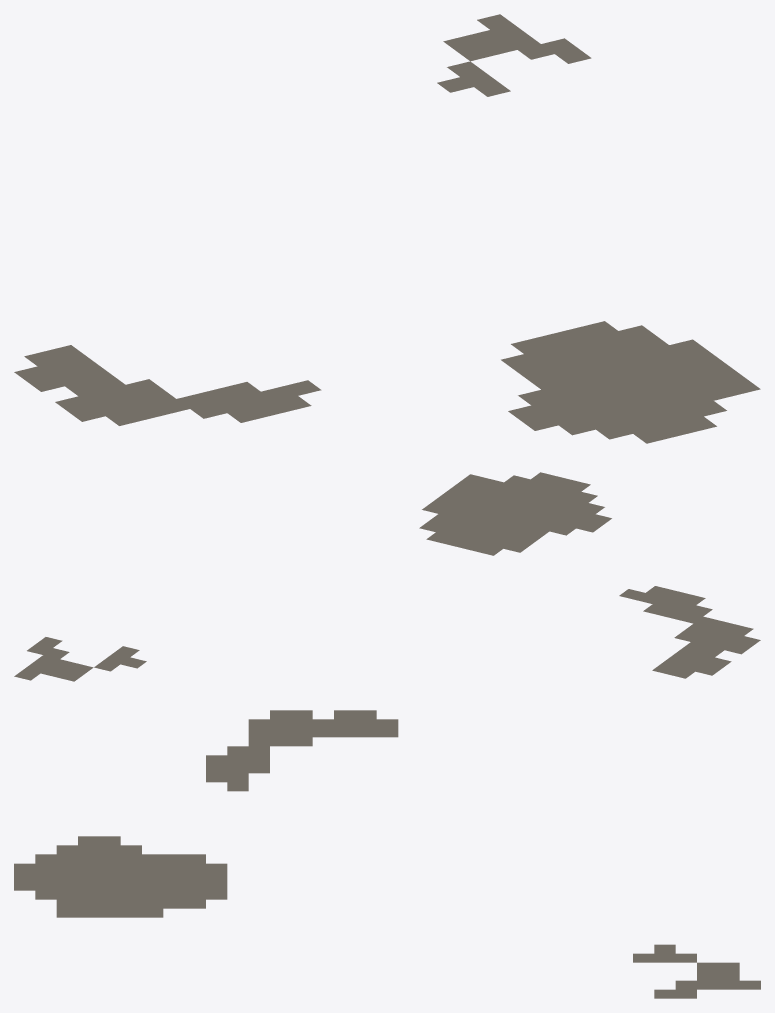
The model's file is Isl-hilly3-RocksArea.fbx.
3 views of the same model, one above another, from view 1: azimuth 30°, elevation 25°; view 2: azimuth 150°, elevation 25°; view 3: azimuth 270°, elevation 25° (orthographic). The views are drawn at different scales.
Visible parts, largest first — view 1: Isl-hilly3-RocksArea; view 2: Isl-hilly3-RocksArea; view 3: Isl-hilly3-RocksArea.
Part boxes in pixels (box(x1,y1,x2,y2)): Isl-hilly3-RocksArea: box(14, 14, 760, 443); Isl-hilly3-RocksArea: box(14, 472, 760, 681); Isl-hilly3-RocksArea: box(14, 710, 760, 998).
Size of the model in its own units: 32 by 0 by 35.
